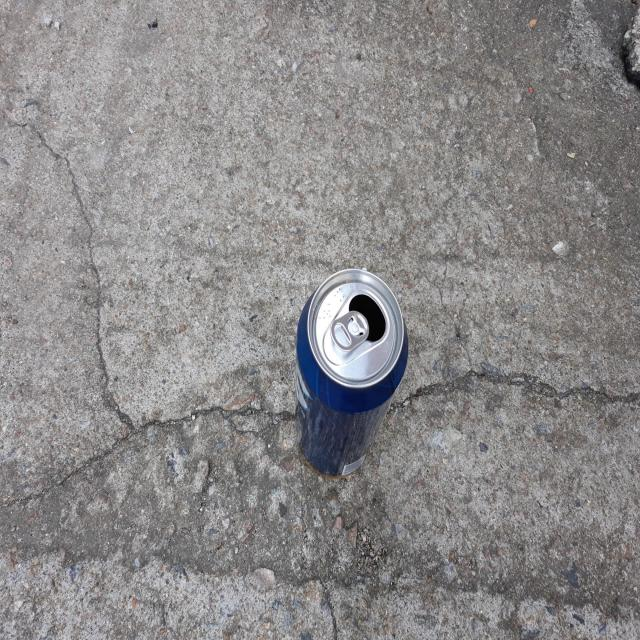can: (296, 269, 409, 477)
